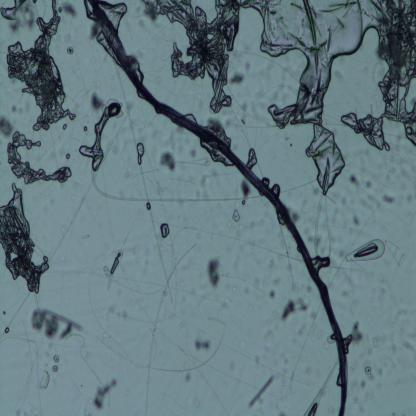Air bubble: (257, 0, 369, 194), (79, 99, 123, 171), (136, 142, 145, 166), (4, 326, 10, 334)
Background material: (148, 1, 243, 114), (0, 0, 81, 131), (369, 1, 416, 147), (0, 182, 49, 292), (7, 128, 73, 186), (341, 107, 393, 144), (14, 339, 38, 416), (30, 306, 84, 340), (68, 329, 97, 376), (375, 155, 416, 186), (0, 0, 40, 30), (247, 372, 276, 409), (92, 376, 120, 410), (255, 323, 279, 360), (340, 268, 361, 310), (102, 248, 124, 288), (278, 297, 308, 325), (203, 254, 222, 294), (351, 377, 370, 413), (344, 318, 364, 350), (386, 238, 403, 268), (234, 99, 253, 124), (308, 308, 324, 337), (156, 151, 179, 171), (194, 172, 210, 200), (361, 194, 380, 215), (126, 100, 145, 121), (106, 304, 128, 322), (283, 371, 297, 399), (400, 329, 416, 353), (291, 324, 309, 345), (238, 180, 252, 207), (61, 2, 80, 21), (195, 332, 211, 354), (288, 280, 315, 293), (0, 116, 15, 139), (90, 92, 106, 113), (390, 311, 407, 329), (347, 172, 362, 190), (37, 369, 51, 388), (228, 71, 247, 85), (248, 146, 259, 168), (382, 191, 397, 206), (246, 217, 266, 228), (265, 258, 279, 273), (50, 354, 60, 374), (280, 358, 291, 376), (403, 189, 416, 204), (182, 368, 194, 382), (363, 365, 374, 379), (125, 385, 134, 401), (231, 208, 240, 224), (351, 212, 360, 228), (267, 289, 277, 303), (335, 70, 345, 84), (292, 208, 301, 223), (390, 327, 396, 349), (81, 122, 90, 136), (10, 105, 24, 114), (370, 336, 379, 350), (376, 362, 384, 376), (226, 362, 237, 372), (189, 148, 199, 158), (66, 44, 74, 56), (360, 380, 367, 388), (289, 142, 293, 147)
Cotton: (90, 0, 348, 414)
Glass filter fibre: (142, 242, 198, 414), (90, 170, 246, 208), (48, 174, 94, 260), (304, 362, 340, 416), (314, 193, 332, 262), (344, 238, 386, 263), (4, 292, 31, 326), (205, 312, 224, 325), (159, 222, 171, 239), (80, 231, 92, 240)
